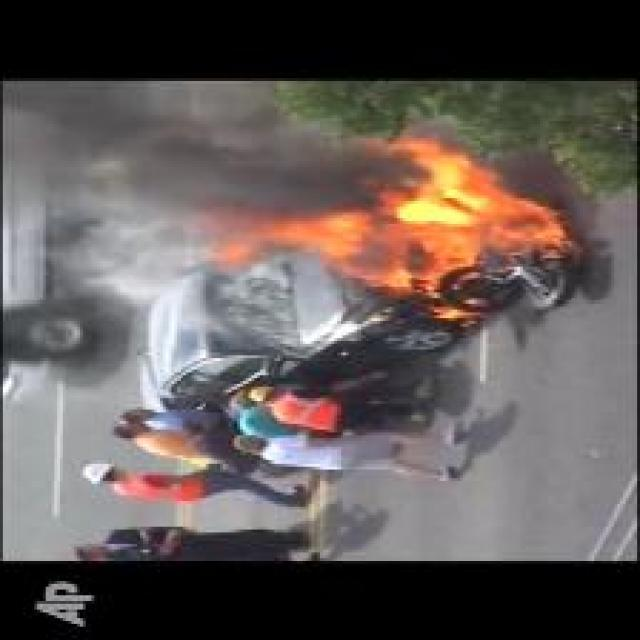Fire: (193, 136, 576, 298)
